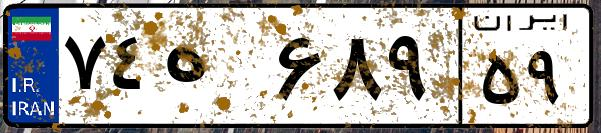4: (110, 28, 158, 98)
5: (475, 38, 525, 113)
6: (270, 28, 330, 110)
7: (57, 26, 110, 100)
8: (330, 28, 385, 110)
9: (385, 28, 445, 110), (525, 38, 570, 115)
ه: (158, 20, 270, 120)
